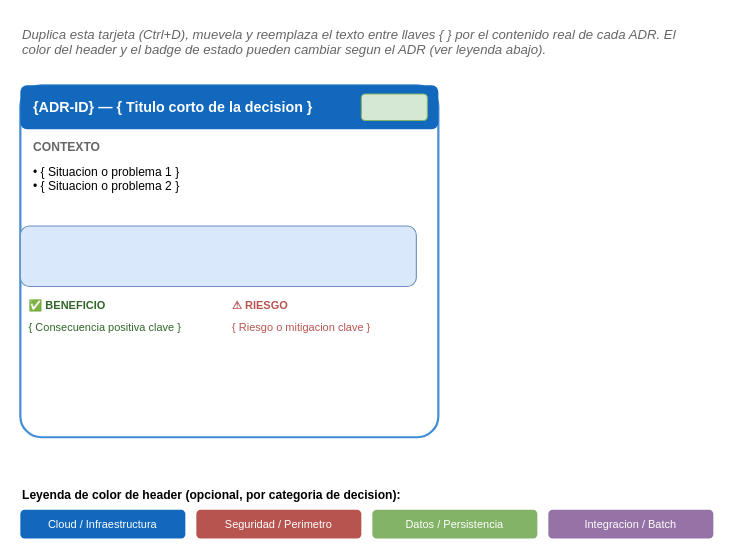
Some shapes in this 732 by 557 pixel diagram are drawn without their labels. The shapes that lost their labels are listed below. From the top down, each one's centre as x and y in pixels, then its label:
At pixel 393 106: "{ESTADO}".
At pixel 217 256: "DECISION: { Frase unica que resume la decision tomada, en negrita }".
